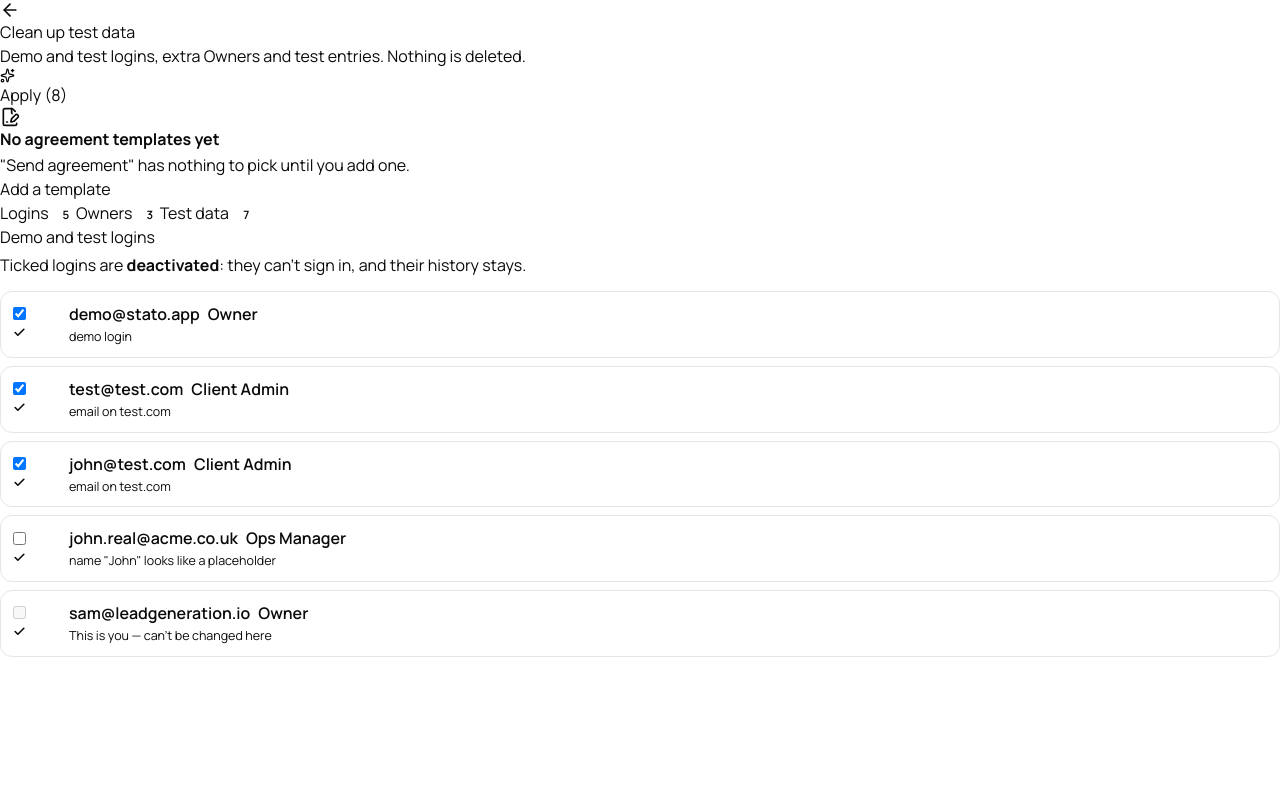
Settings → Clean up (S8 + N6) › lists creatives whose file is missing, pre-ticked, under Test data
Click the tab "Test data 7".
click(208, 213)  # box x1=160 y1=201 x2=256 y2=225
(page scrolled)
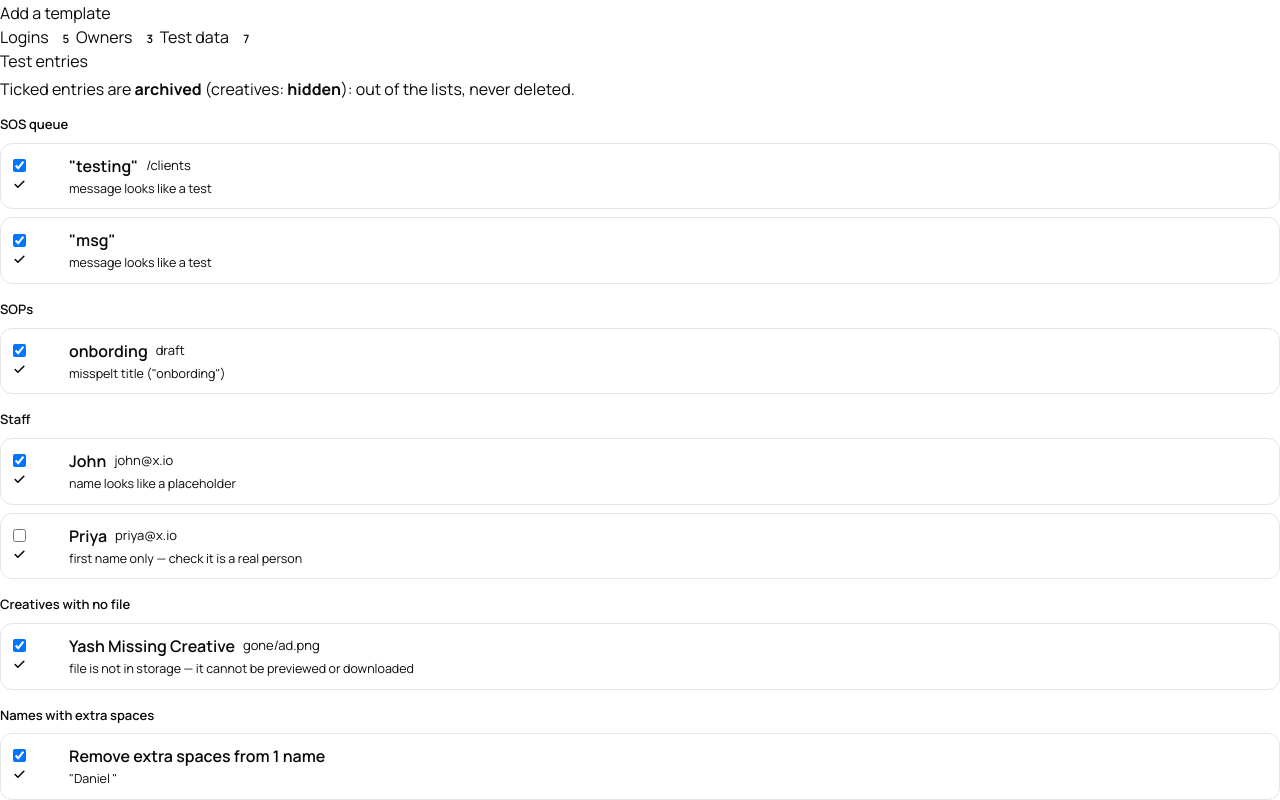
Check: the checkbox named "Archive Creatives with no file \"Yash Missing Creative\"" is checked, box x1=13 y1=639 x2=26 y2=652
Check: the heading "Creatives with no file" is shown, box x1=0 y1=595 x2=130 y2=613
